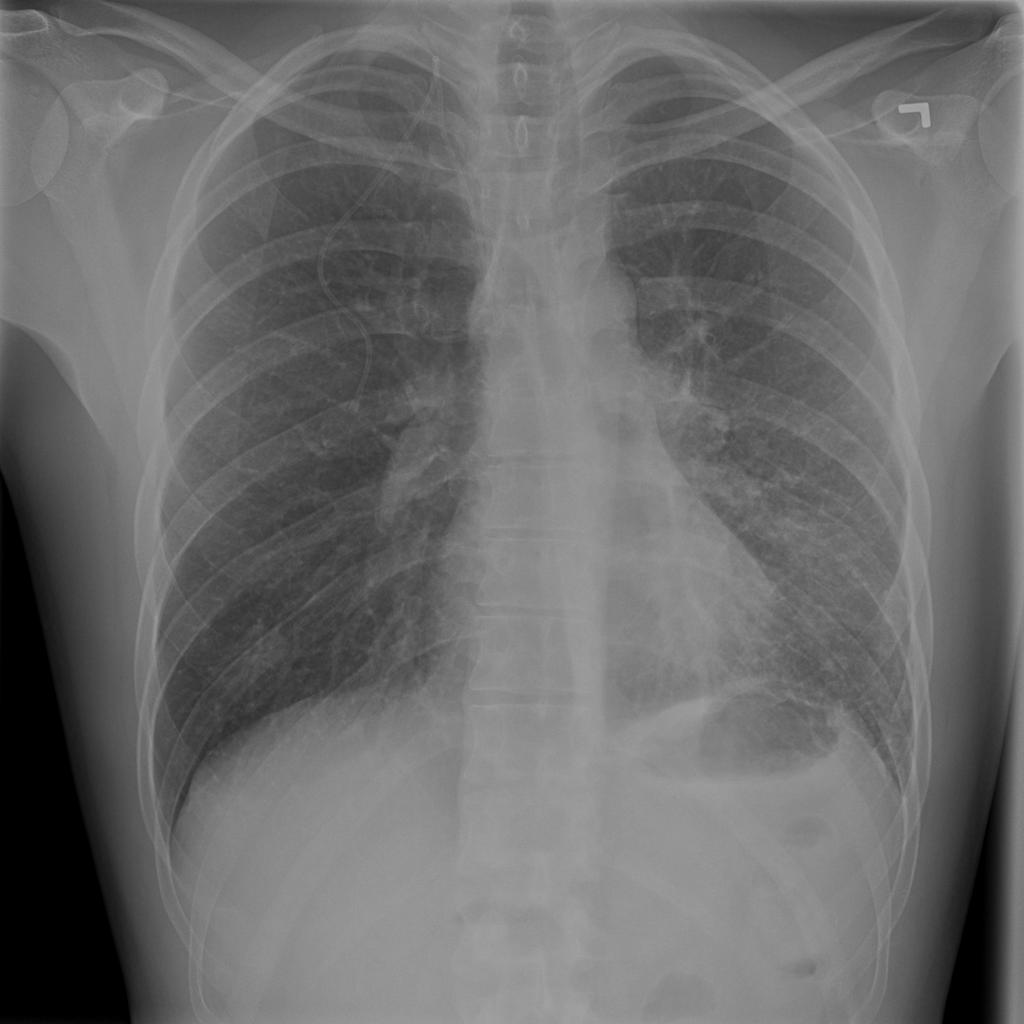nodule: (223, 614, 303, 687)
